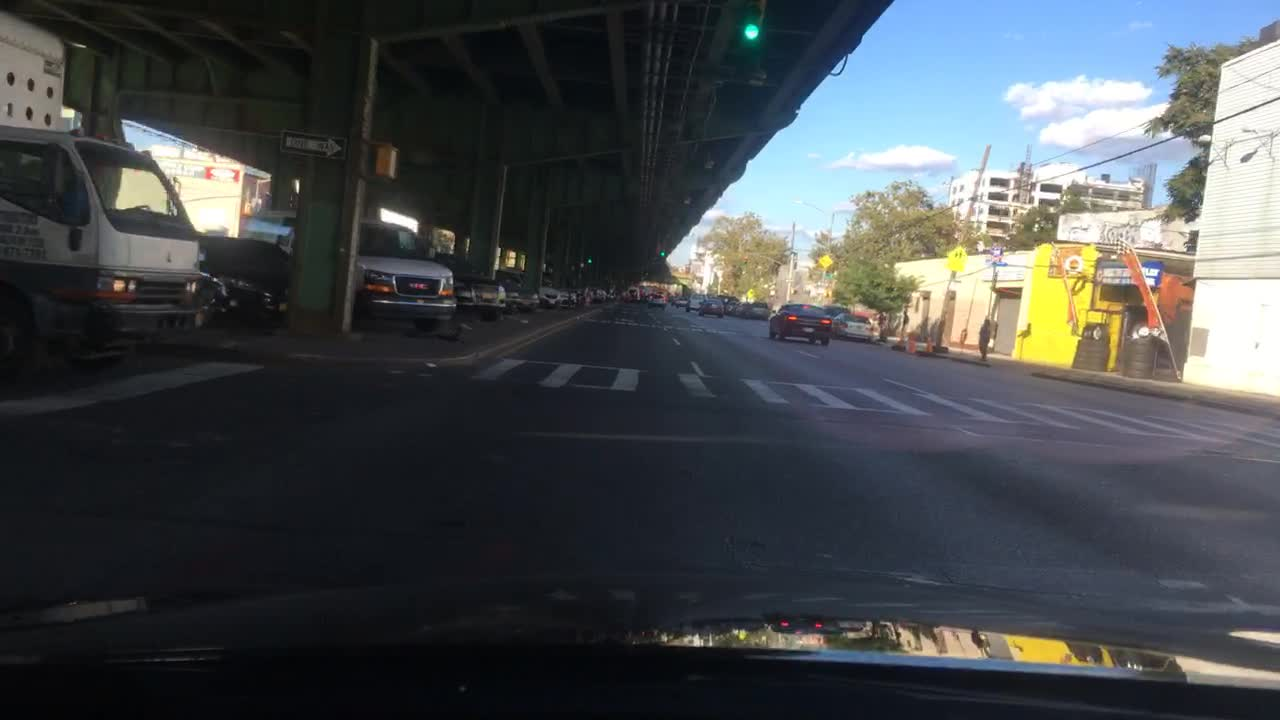car: (357, 215, 458, 332), (198, 235, 295, 329), (436, 254, 506, 324), (768, 302, 829, 345), (495, 272, 540, 312), (832, 312, 876, 340), (540, 277, 569, 307), (748, 301, 770, 320), (824, 303, 847, 321), (705, 294, 725, 313), (721, 294, 738, 313), (688, 291, 703, 311), (627, 284, 641, 303), (606, 286, 619, 303), (572, 287, 584, 304), (663, 294, 676, 308), (736, 299, 748, 314), (648, 299, 663, 310), (594, 287, 604, 303), (676, 294, 686, 308), (644, 293, 658, 301)
person: (979, 317, 994, 357)
traffic light: (362, 135, 402, 182), (744, 15, 761, 46), (658, 245, 668, 261), (585, 252, 592, 266)
traffic sign: (280, 128, 347, 160), (947, 244, 969, 271), (819, 256, 836, 268), (821, 274, 834, 278)
truck: (0, 122, 201, 387)
